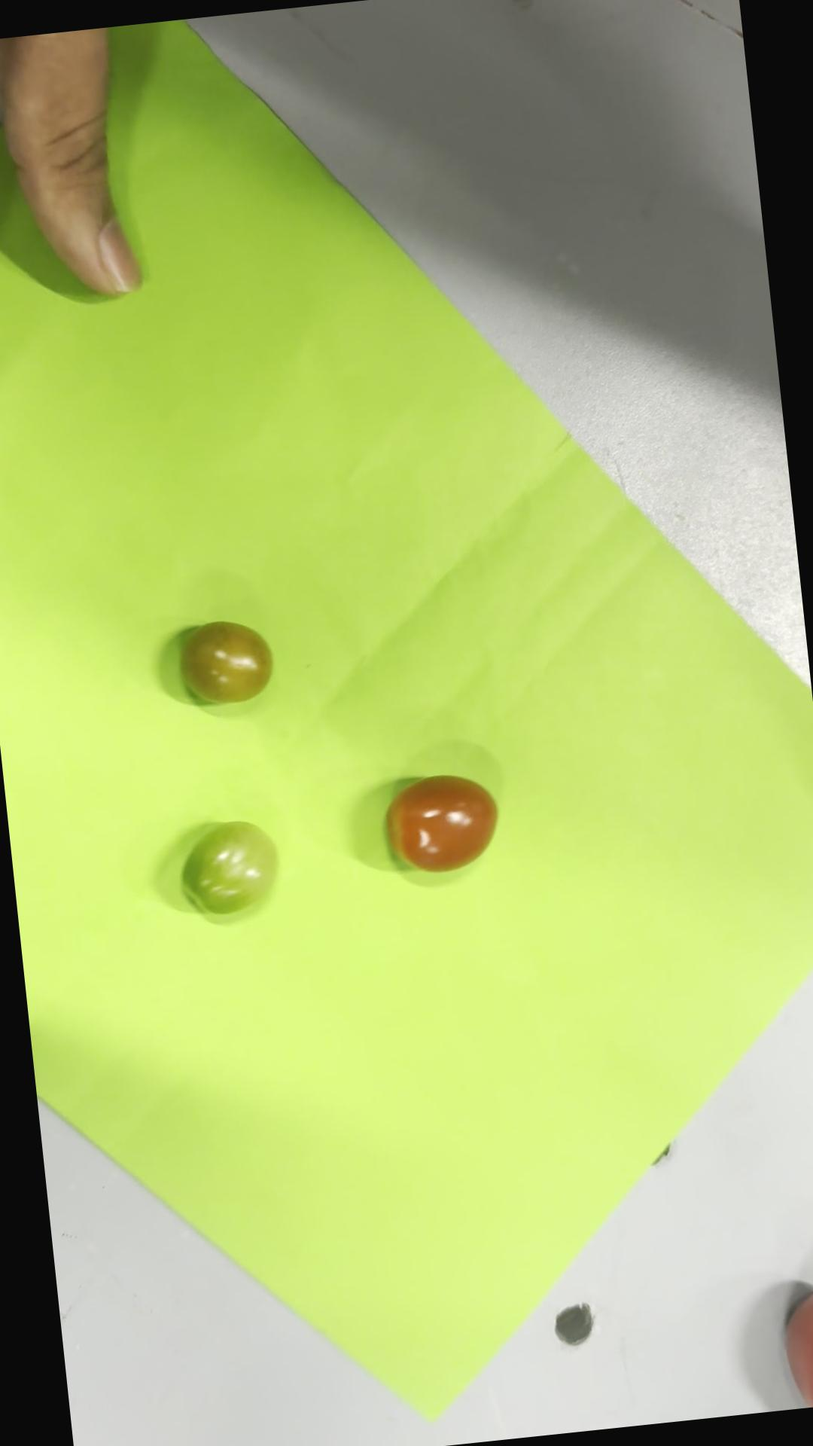green_cherry_tomato: (183, 822, 277, 913)
red_cherry_tomato: (386, 775, 497, 873)
yellow_cherry_tomato: (179, 621, 272, 704)
